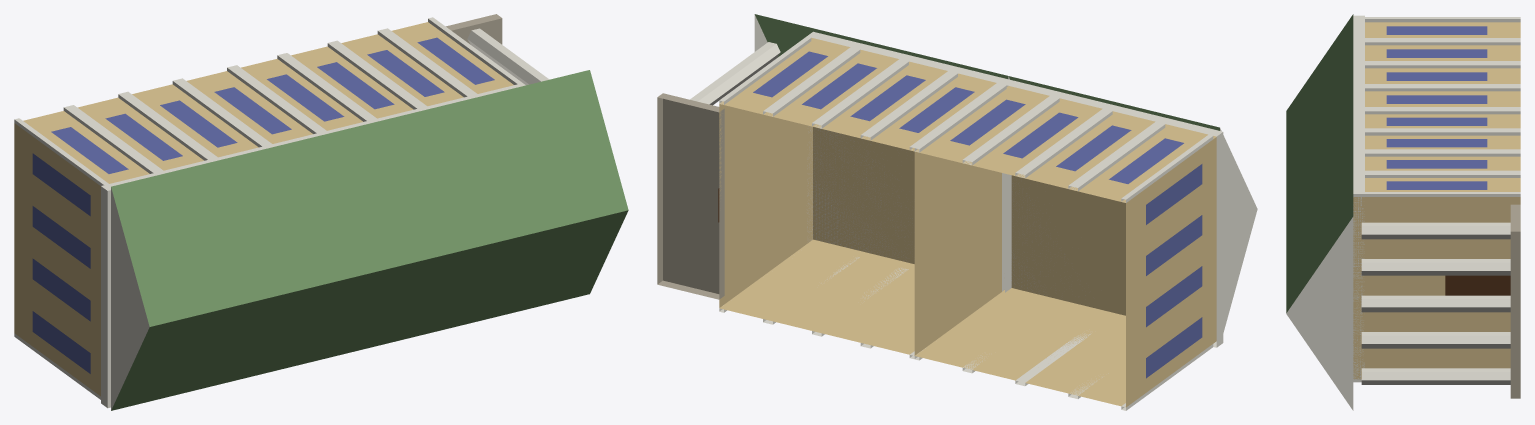
File: construction_1.glb
3 renders of one model, left to right at view 1: azimuth 30°, elevation 25°; view 2: azimuth 150°, elevation 25°; view 3: azimuth 270°, elevation 25°, orthographic. The views are drawn at different scales.
Visible parts, largest first — view 1: t00_g58.001, t10_g59.001; view 2: t00_g58.001, t10_g59.001; view 3: t10_g59.001, t00_g58.001.
Boxes of the visible parts, bbox=[...] form: t00_g58.001: bbox=[14, 66, 367, 410]; t10_g59.001: bbox=[232, 14, 628, 357]; t00_g58.001: bbox=[914, 76, 1257, 410]; t10_g59.001: bbox=[657, 14, 1011, 359]; t10_g59.001: bbox=[1286, 106, 1520, 410]; t00_g58.001: bbox=[1286, 14, 1520, 202].
Bounding box in the file's own units: 29 × 12.8 × 14.
